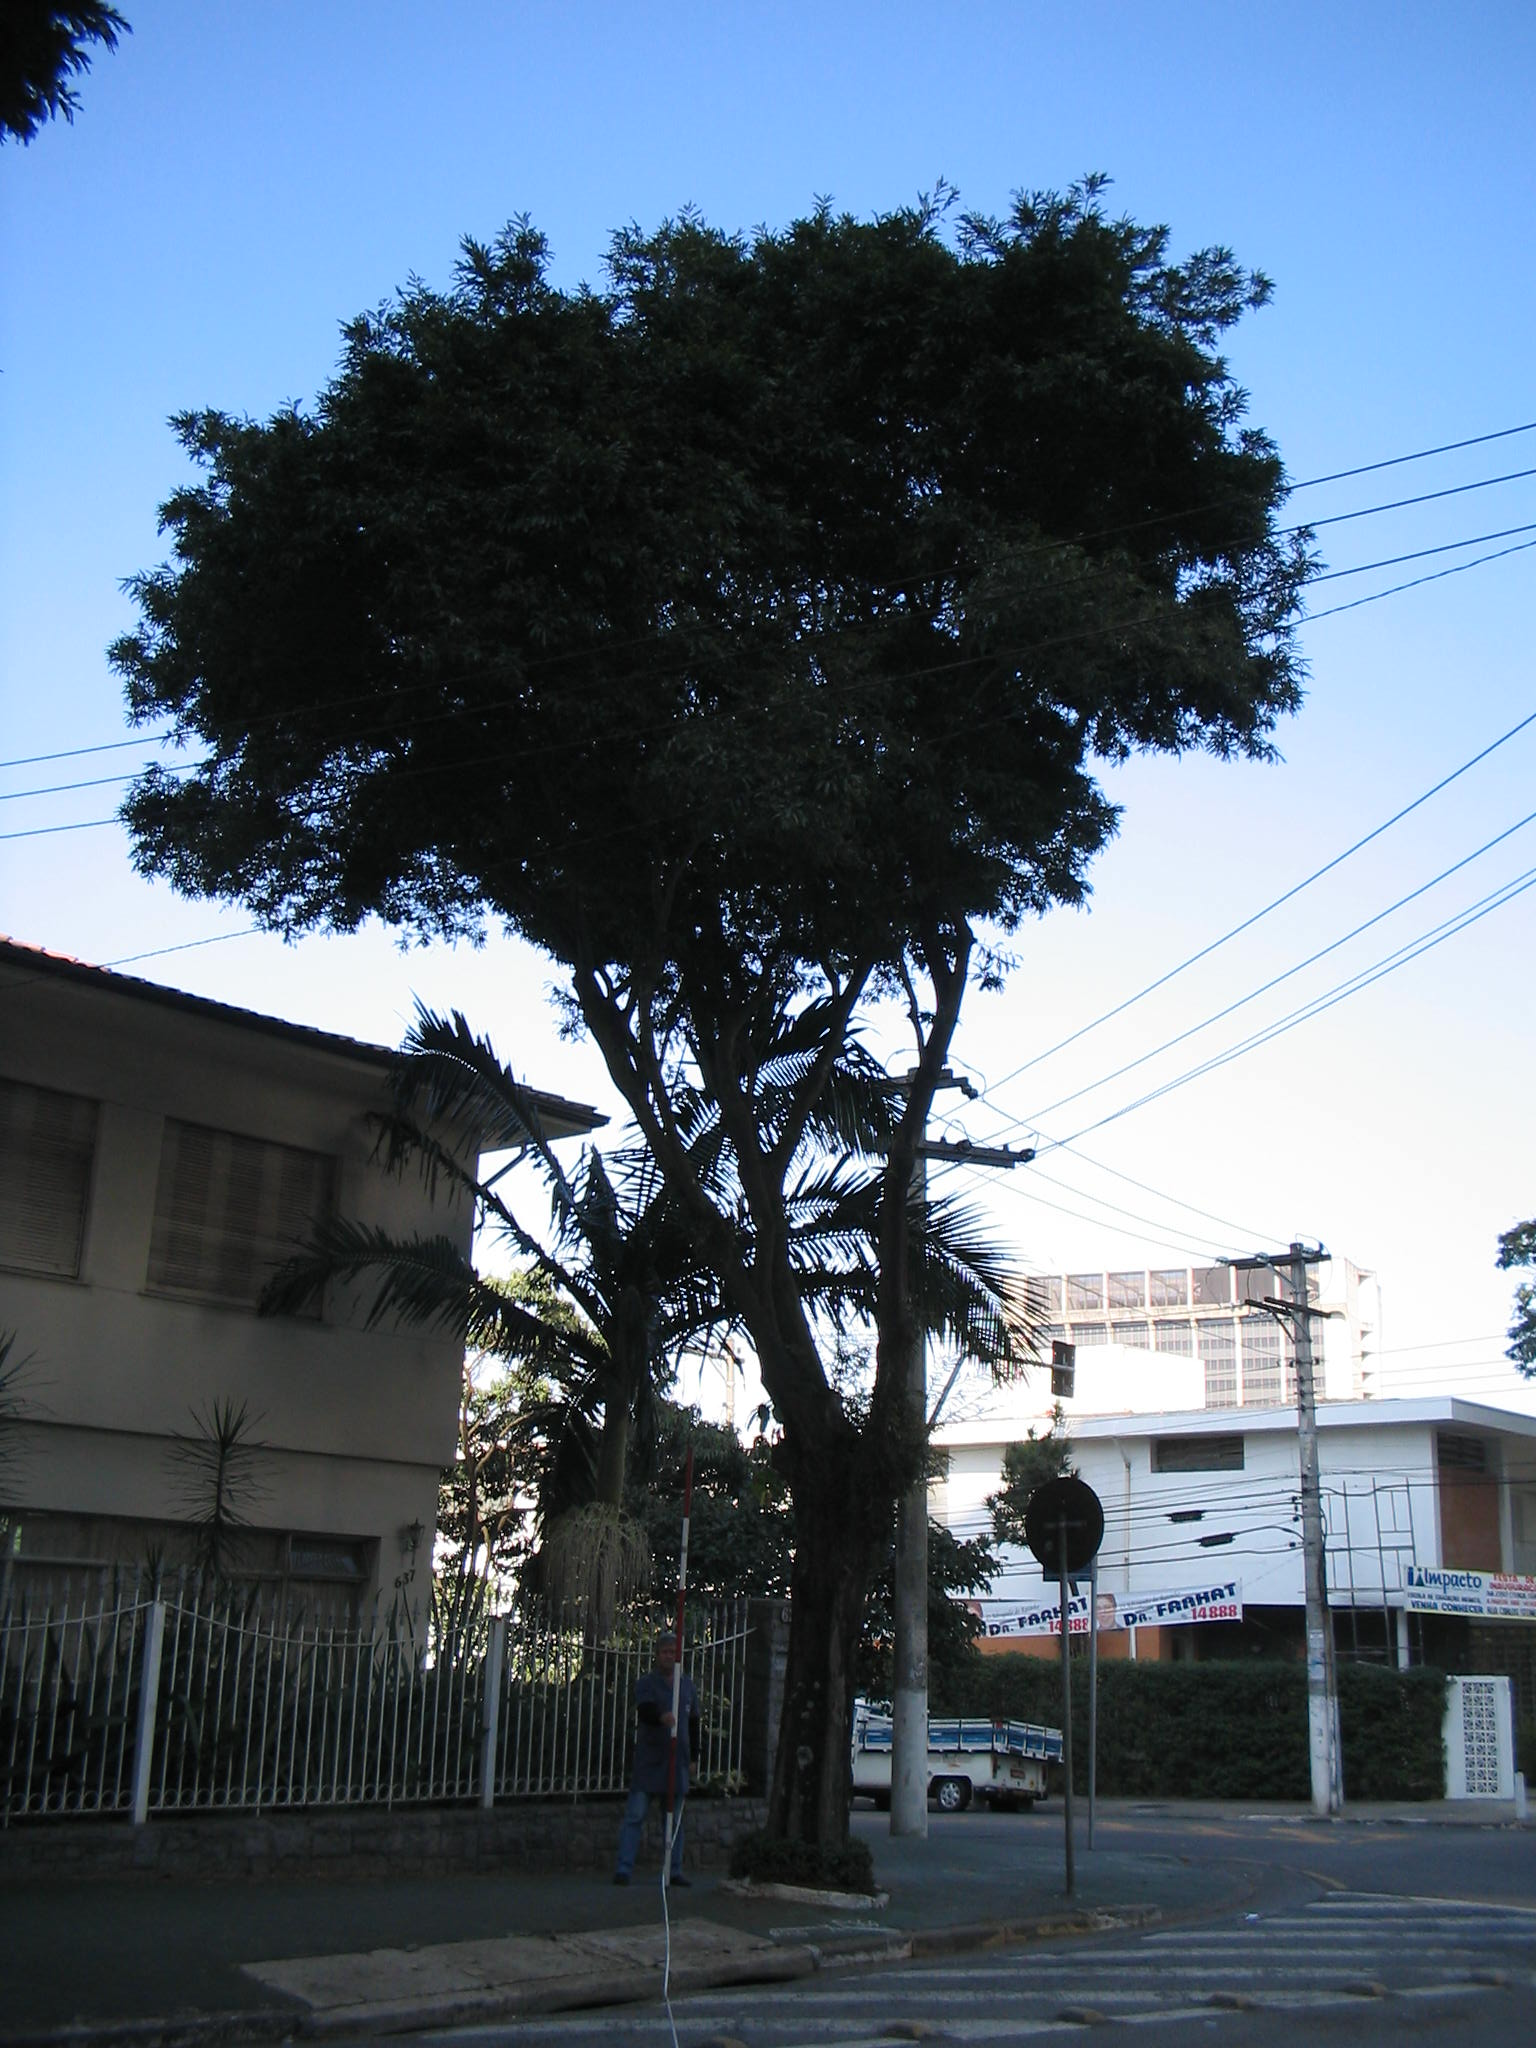crown: (115, 166, 1329, 1053)
stem: (720, 1432, 929, 1884)
stick: (644, 1447, 729, 1888)
tree: (111, 163, 1336, 1892)
